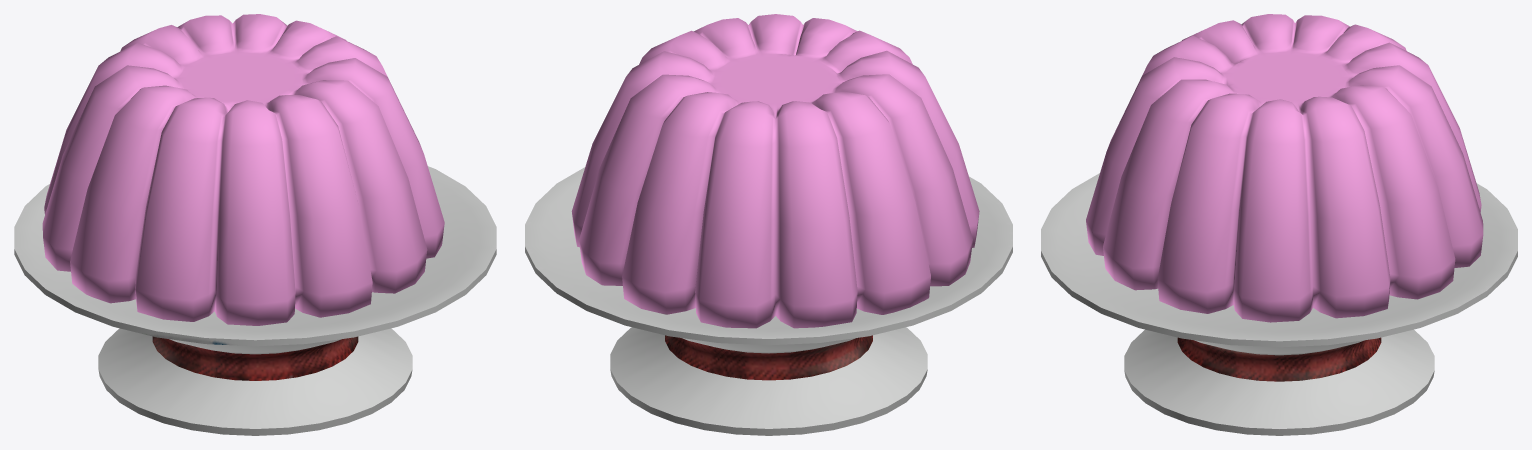
The model's file is jello1.fbx.
3 views of the same model, side by side, from view 1: azimuth 30°, elevation 25°; view 2: azimuth 150°, elevation 25°; view 3: azimuth 270°, elevation 25° (orthographic). The views are drawn at different scales.
Parts seen in each view (by area): view 1: SM_jelly_blueplate__3_; view 2: SM_jelly_blueplate__3_; view 3: SM_jelly_blueplate__3_.
Part boxes in pixels (bbox=[...]): SM_jelly_blueplate__3_: bbox=[14, 14, 496, 435]; SM_jelly_blueplate__3_: bbox=[525, 14, 1012, 435]; SM_jelly_blueplate__3_: bbox=[1041, 14, 1517, 435].
Size of the model in its own units: 27.17 by 19.36 by 27.02.
